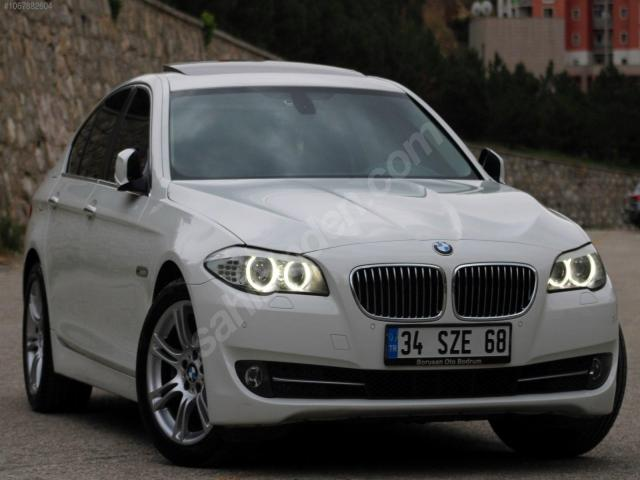plaka: (385, 324, 511, 364)
